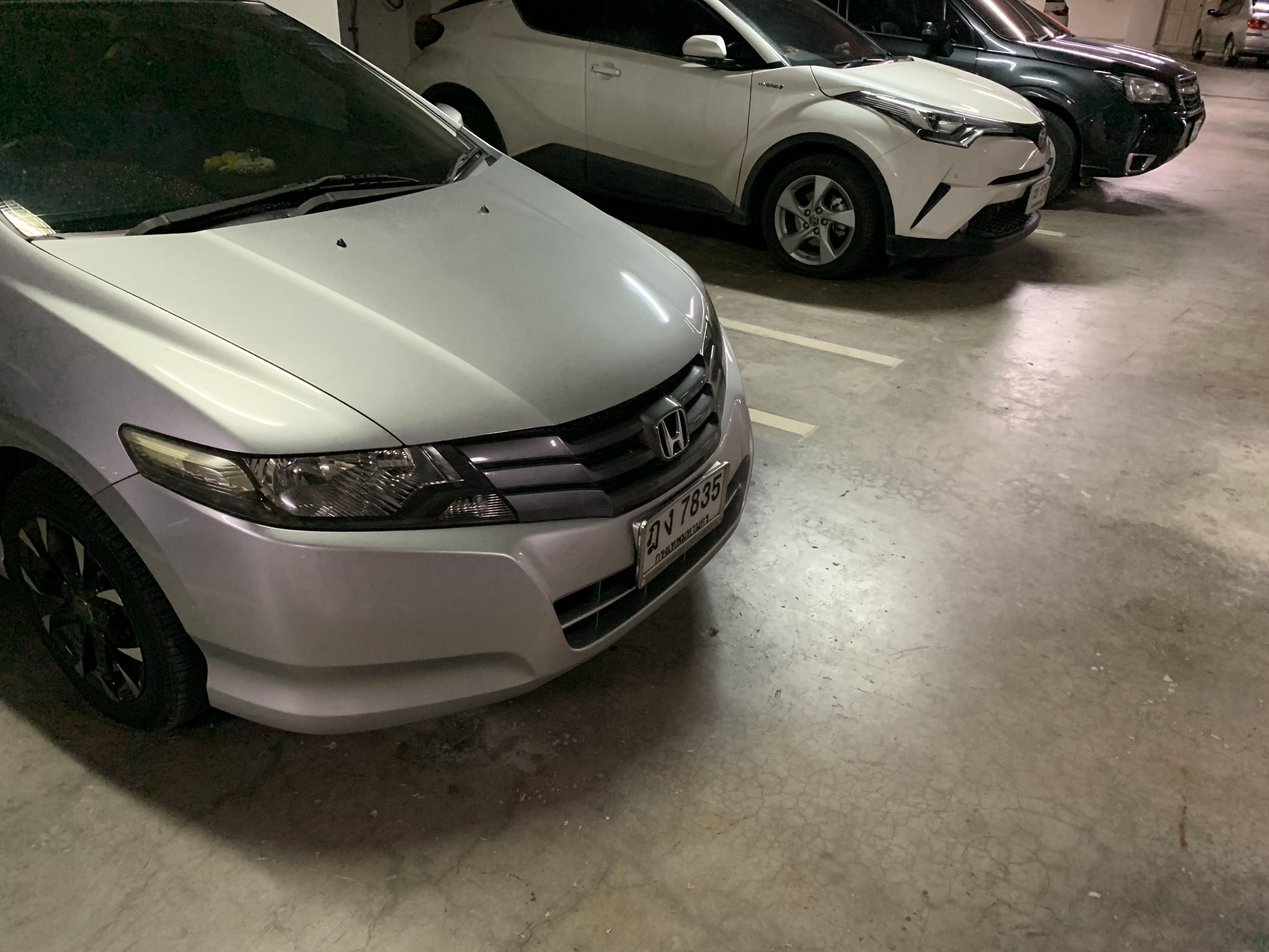license-plate: (629, 455, 735, 595)
